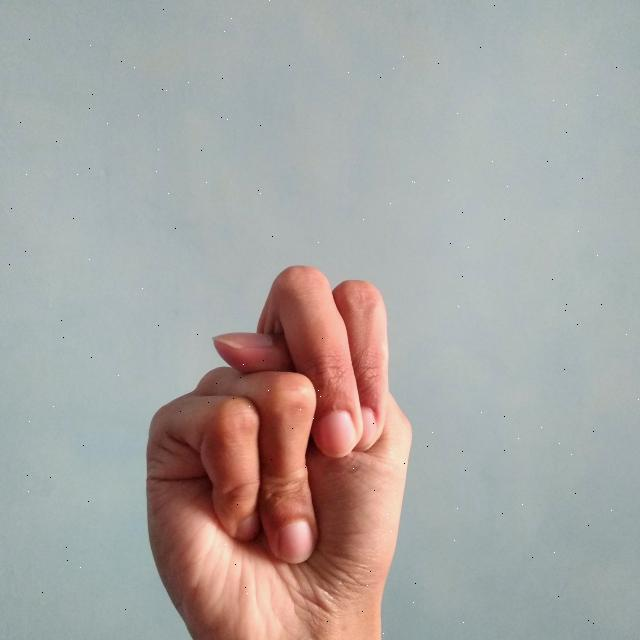N: (140, 254, 422, 640)
